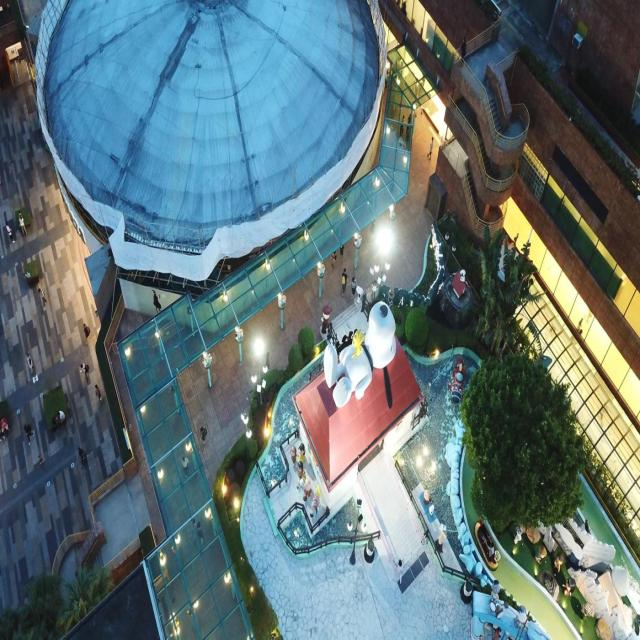person: (82, 322, 90, 346)
